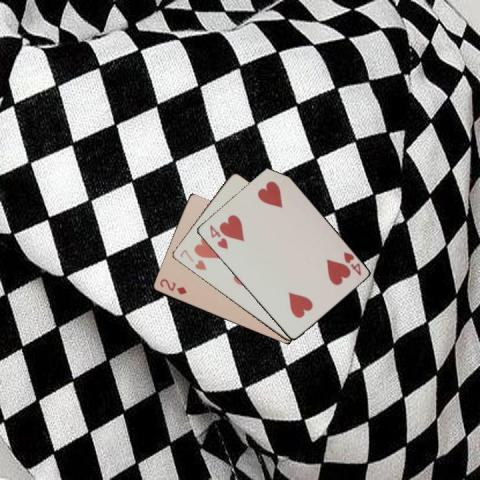2d: (157, 276, 188, 296)
4h: (206, 221, 229, 251), (340, 249, 363, 277)
7h: (177, 247, 207, 271)
